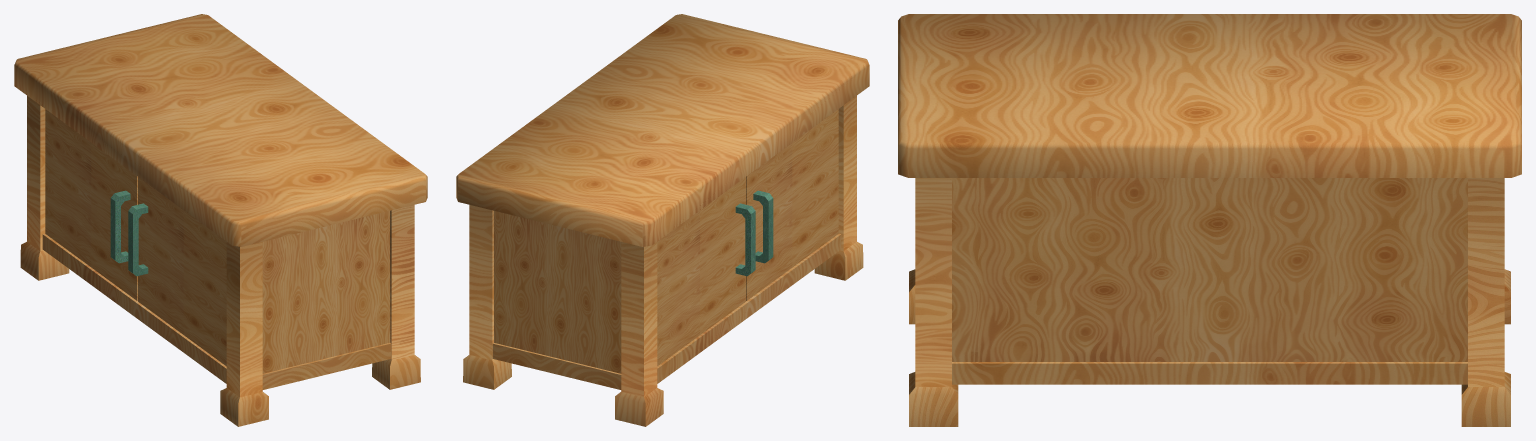
Rendered from Bedroom_Coffer_Drop.fbx.
3 views of the same model, side by side, from view 1: azimuth 30°, elevation 25°; view 2: azimuth 150°, elevation 25°; view 3: azimuth 270°, elevation 25° (orthographic). The views are drawn at different scales.
Visible parts, largest first — view 1: Bedroom_Coffer_Drop.000, Bedroom_Coffer_Drop.006, Bedroom_Coffer_Drop.007, Bedroom_Coffer_Drop.008, Bedroom_Coffer_Drop.004, Bedroom_Coffer_Drop.010, Bedroom_Coffer_Drop.005, Bedroom_Coffer_Drop.001; view 2: Bedroom_Coffer_Drop.000, Bedroom_Coffer_Drop.003, Bedroom_Coffer_Drop.008, Bedroom_Coffer_Drop.007, Bedroom_Coffer_Drop.001, Bedroom_Coffer_Drop.010, Bedroom_Coffer_Drop.002, Bedroom_Coffer_Drop.004; view 3: Bedroom_Coffer_Drop.000, Bedroom_Coffer_Drop.009, Bedroom_Coffer_Drop.010, Bedroom_Coffer_Drop.002, Bedroom_Coffer_Drop.005.
Part boxes in pixels (left/top/right/bottom): Bedroom_Coffer_Drop.000: left=14, top=14, right=427, bottom=246; Bedroom_Coffer_Drop.006: left=262, top=211, right=389, bottom=373; Bedroom_Coffer_Drop.007: left=128, top=177, right=226, bottom=366; Bedroom_Coffer_Drop.008: left=45, top=109, right=137, bottom=300; Bedroom_Coffer_Drop.004: left=220, top=242, right=268, bottom=426; Bedroom_Coffer_Drop.010: left=42, top=233, right=391, bottom=389; Bedroom_Coffer_Drop.005: left=372, top=205, right=420, bottom=389; Bedroom_Coffer_Drop.001: left=20, top=96, right=69, bottom=280; Bedroom_Coffer_Drop.000: left=456, top=14, right=869, bottom=246; Bedroom_Coffer_Drop.003: left=494, top=211, right=621, bottom=373; Bedroom_Coffer_Drop.008: left=657, top=177, right=755, bottom=366; Bedroom_Coffer_Drop.007: left=746, top=109, right=838, bottom=300; Bedroom_Coffer_Drop.001: left=615, top=242, right=663, bottom=426; Bedroom_Coffer_Drop.010: left=492, top=233, right=841, bottom=389; Bedroom_Coffer_Drop.002: left=463, top=205, right=511, bottom=389; Bedroom_Coffer_Drop.004: left=814, top=96, right=863, bottom=280; Bedroom_Coffer_Drop.000: left=898, top=14, right=1521, bottom=177; Bedroom_Coffer_Drop.009: left=952, top=178, right=1467, bottom=361; Bedroom_Coffer_Drop.010: left=952, top=362, right=1467, bottom=384; Bedroom_Coffer_Drop.002: left=1461, top=178, right=1510, bottom=426; Bedroom_Coffer_Drop.005: left=909, top=178, right=958, bottom=426.
Size of the model in its own units: 58.22 by 58.5 by 115.
